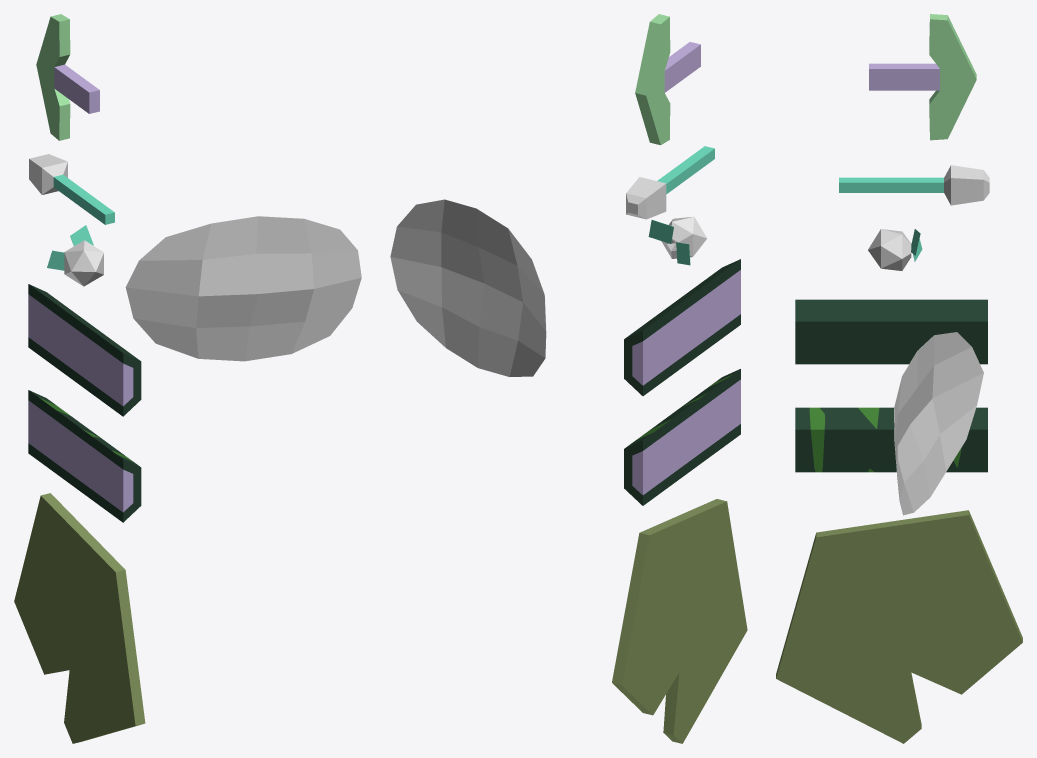
File: Ingredients.fbx
3 views of the same model, side by side, from view 1: azimuth 30°, elevation 25°; view 2: azimuth 150°, elevation 25°; view 3: azimuth 270°, elevation 25° (orthographic). The views are drawn at different scales.
Visible parts, largest first — view 1: Cradle Plant Leaf, Pond Boat, Bark Sample 2, Bark Sample, Pearl Cap Slice, Brightshroom Spore, Sweet Berry; view 2: Pond Boat, Cradle Plant Leaf, Bark Sample 2, Bark Sample, Pearl Cap Slice, Brightshroom Spore, Sweet Berry; view 3: Pond Boat, Bark Sample, Cradle Plant Leaf, Bark Sample 2, Pearl Cap Slice, Brightshroom Spore, Sweet Berry.
Boxes of the visible parts, bbox=[...] form: Cradle Plant Leaf: bbox=[125, 216, 361, 361]; Pond Boat: bbox=[14, 493, 145, 743]; Bark Sample 2: bbox=[28, 390, 141, 522]; Bark Sample: bbox=[28, 284, 141, 416]; Pearl Cap Slice: bbox=[36, 14, 99, 140]; Brightshroom Spore: bbox=[29, 154, 114, 224]; Sweet Berry: bbox=[47, 225, 103, 286]; Pond Boat: bbox=[612, 499, 747, 743]; Cradle Plant Leaf: bbox=[390, 199, 546, 376]; Bark Sample 2: bbox=[624, 369, 740, 505]; Bark Sample: bbox=[624, 259, 740, 395]; Pearl Cap Slice: bbox=[635, 14, 700, 145]; Brightshroom Spore: bbox=[626, 146, 714, 219]; Sweet Berry: bbox=[648, 216, 706, 265]; Pond Boat: bbox=[776, 510, 1022, 743]; Bark Sample: bbox=[795, 299, 987, 364]; Cradle Plant Leaf: bbox=[894, 332, 983, 515]; Bark Sample 2: bbox=[795, 407, 987, 472]; Pearl Cap Slice: bbox=[869, 14, 976, 140]; Brightshroom Spore: bbox=[839, 165, 989, 205]; Sweet Berry: bbox=[868, 229, 922, 270].
Bounding box in the file's own units: 1493 × 3361 × 1037.
